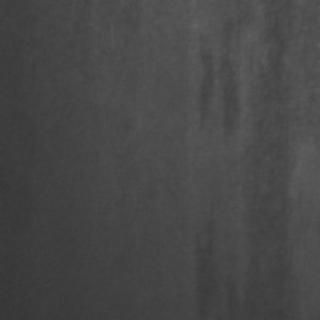inclusion: (236, 2, 304, 312), (189, 7, 249, 152), (188, 202, 224, 312)
